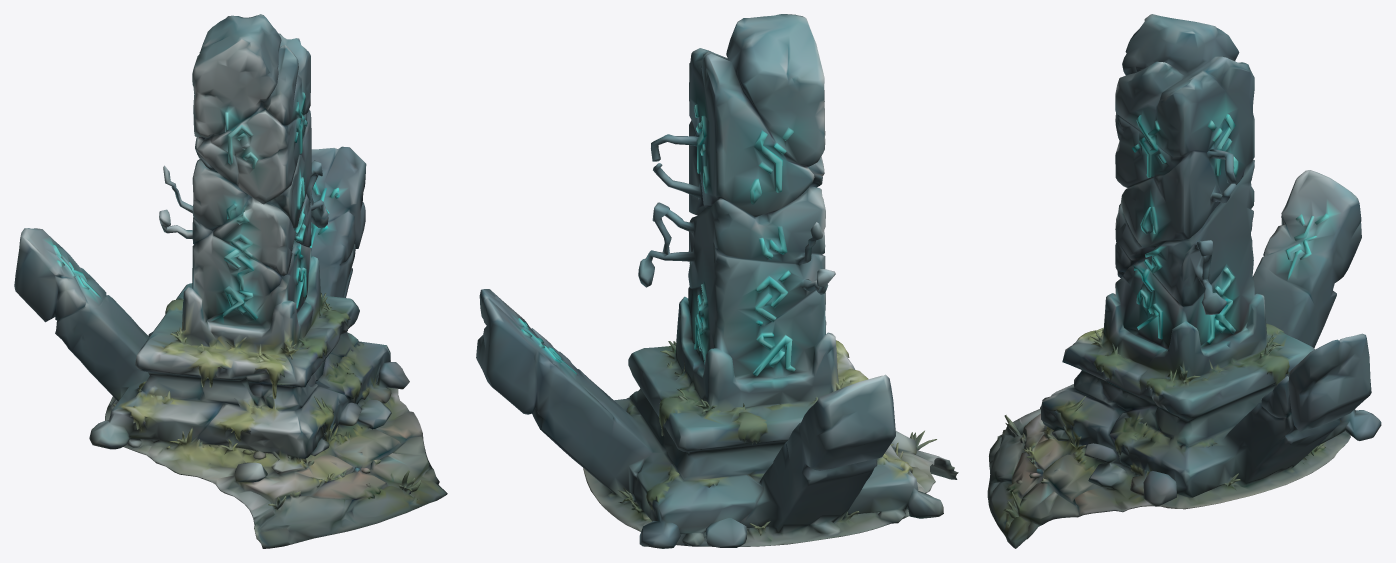
Rendered from Pillar.glb.
3 renders of one model, left to right at view 1: azimuth 30°, elevation 25°; view 2: azimuth 150°, elevation 25°; view 3: azimuth 270°, elevation 25°, orthographic. The views are drawn at different scales.
Visible parts, largest first — view 1: geometry_0; view 2: geometry_0; view 3: geometry_0.
Boxes of the visible parts, x1=… form: geometry_0: x1=14, y1=14, x2=447, y2=548; geometry_0: x1=476, y1=14, x2=958, y2=548; geometry_0: x1=987, y1=14, x2=1381, y2=548.
Bounding box in the file's own units: 0.8131 × 0.9799 × 0.7523.
